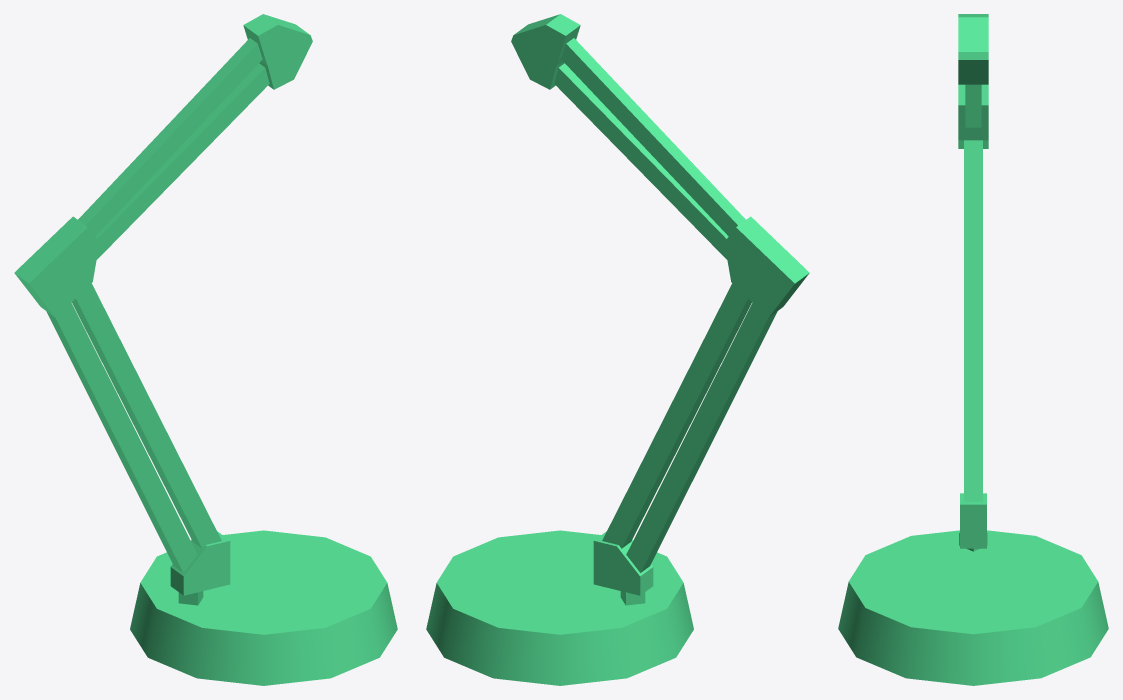
Rendered from SM_DeskLamp.fbx.
3 renders of one model, left to right at view 1: azimuth 30°, elevation 25°; view 2: azimuth 150°, elevation 25°; view 3: azimuth 270°, elevation 25°, orthographic.
Parts seen in each view (by area): view 1: SM_DeskLamp; view 2: SM_DeskLamp; view 3: SM_DeskLamp.
Boxes of the visible parts, x1,y1,x2,y2 form: SM_DeskLamp: (14, 14, 397, 685); SM_DeskLamp: (426, 14, 809, 685); SM_DeskLamp: (838, 14, 1108, 685).
Size of the model in its own units: 22.68 by 36.8 by 14.69.
